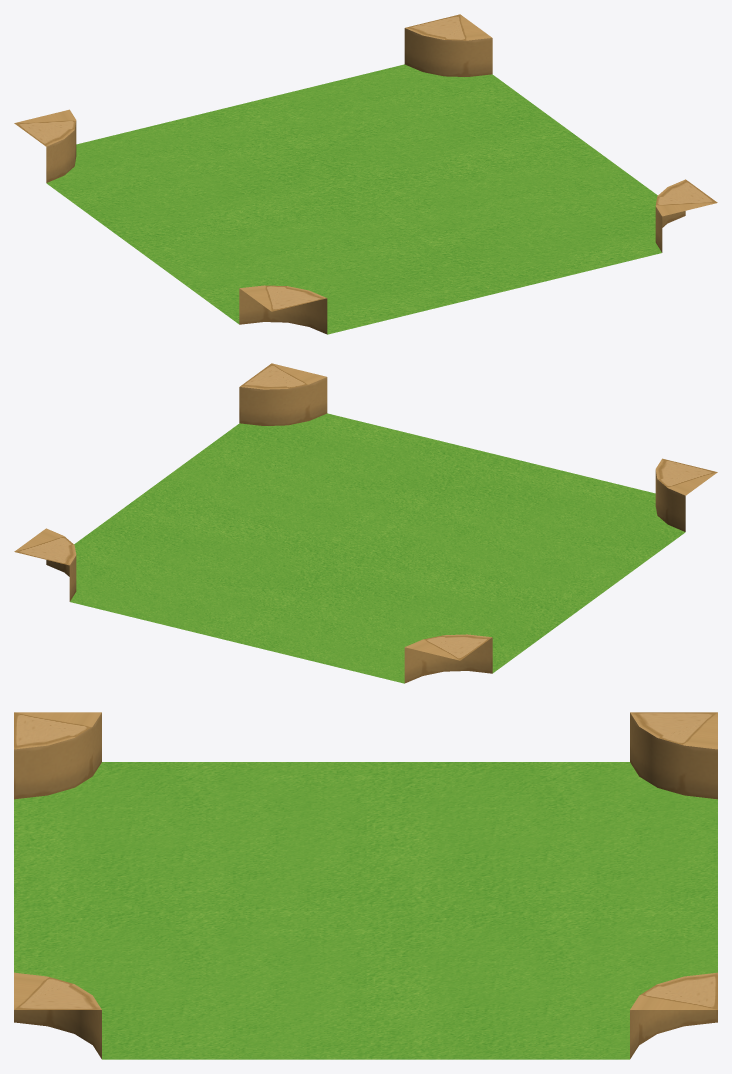
Rendered from tile22.FBX.
3 renders of one model, top to bottom at view 1: azimuth 30°, elevation 25°; view 2: azimuth 150°, elevation 25°; view 3: azimuth 270°, elevation 25°, orthographic. The views are drawn at different scales.
Parts seen in each view (by area): view 1: tile22_floor01, tile22_walls; view 2: tile22_floor01, tile22_walls; view 3: tile22_floor01, tile22_walls.
Part boxes in pixels (x1,y1,x2,y2): tile22_floor01: [46, 64, 661, 334]; tile22_walls: [14, 14, 717, 334]; tile22_floor01: [70, 413, 685, 683]; tile22_walls: [14, 363, 717, 683]; tile22_floor01: [14, 762, 717, 1059]; tile22_walls: [14, 712, 717, 1058].
Size of the model in its own units: 1280 by 100 by 1280.
